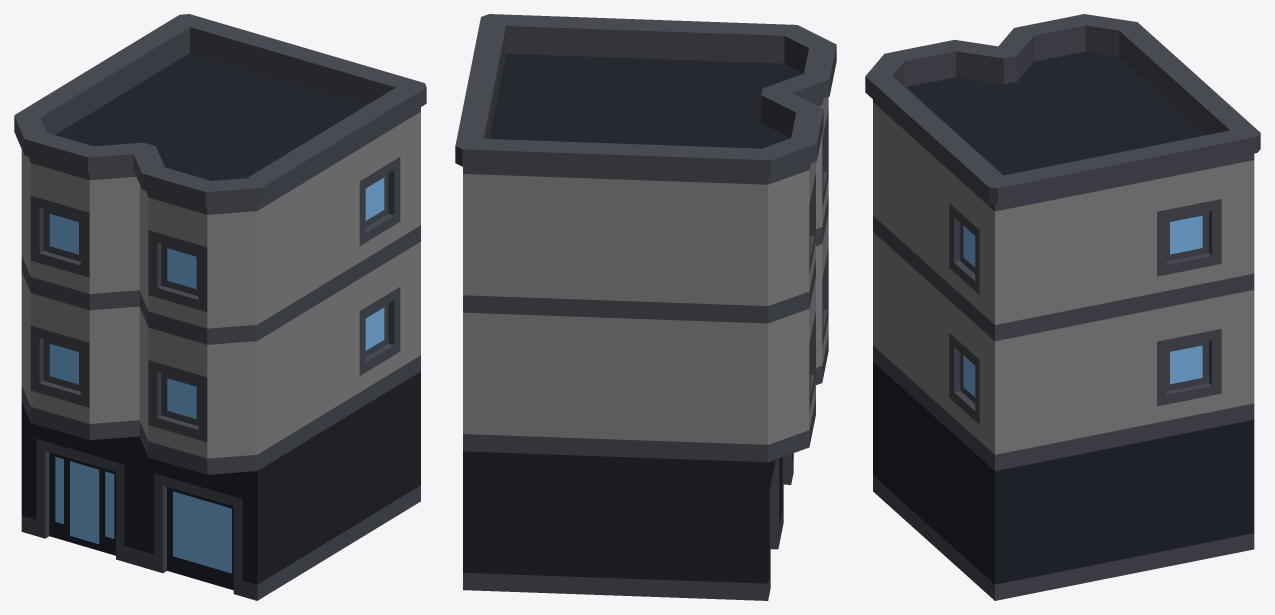
The model's file is variant_16.obj.
3 views of the same model, side by side, from view 1: azimuth 30°, elevation 25°; view 2: azimuth 150°, elevation 25°; view 3: azimuth 270°, elevation 25° (orthographic). The views are drawn at different scales.
Parts seen in each view (by area): view 1: small_buildingA; view 2: small_buildingA; view 3: small_buildingA.
Boxes of the visible parts, bbox=[...] form: small_buildingA: bbox=[14, 14, 426, 600]; small_buildingA: bbox=[455, 14, 836, 600]; small_buildingA: bbox=[865, 14, 1260, 600].
Bounding box in the file's own units: 1.15 × 1.28 × 1.1.
